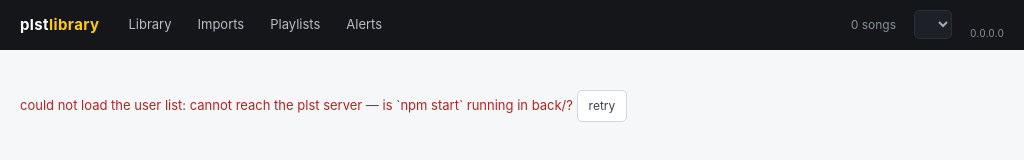
Scenario: Shell — page content is gated on the users API › shows the error with a working retry when users fails
This screenshot has width=1024, height=160.
Expected: the message shows "could not load", x1=20 y1=96 x2=190 y2=112
Click the button "retry".
click(602, 106)  # box x1=577 y1=90 x2=627 y2=122
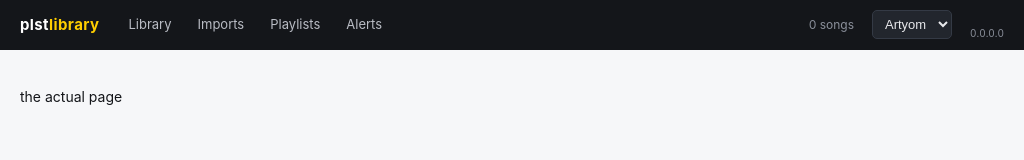
Result: the text "the actual page" is shown at x1=20 y1=88 x2=122 y2=104
